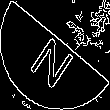N_NE: (28, 23, 82, 87)
